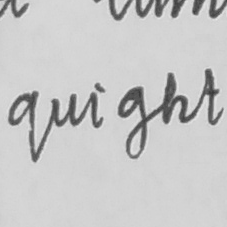a: (5, 87, 43, 165)
g: (114, 83, 150, 163)
h: (159, 68, 192, 126)
i: (84, 81, 108, 132)
t: (200, 64, 227, 128)
u: (47, 90, 80, 131)
